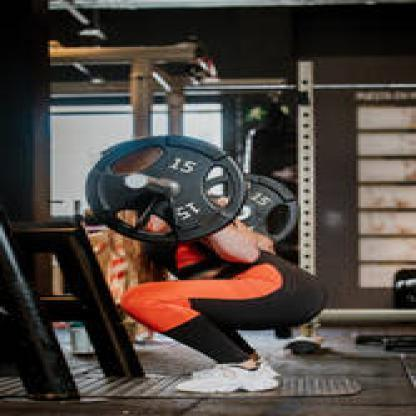Barbell: (122, 165, 157, 194)
